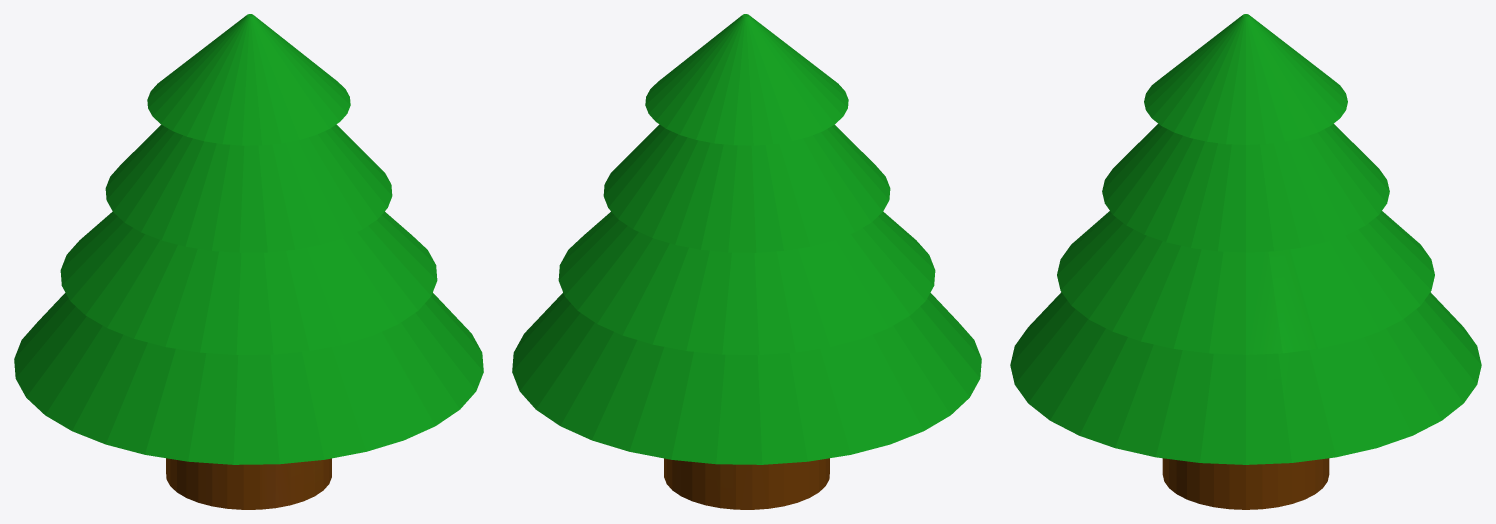
The model's file is ArvoreReinaldo.fbx.
3 renders of one model, left to right at view 1: azimuth 30°, elevation 25°; view 2: azimuth 150°, elevation 25°; view 3: azimuth 270°, elevation 25°, orthographic.
Parts seen in each view (by area): view 1: Cylinder; view 2: Cylinder; view 3: Cylinder.
Boxes of the visible parts, box(x1,y1,x2,y2) form: Cylinder: box(14, 14, 483, 509); Cylinder: box(512, 14, 981, 509); Cylinder: box(1010, 14, 1481, 509).
Bounding box in the file's own units: 253 × 273 × 253.
